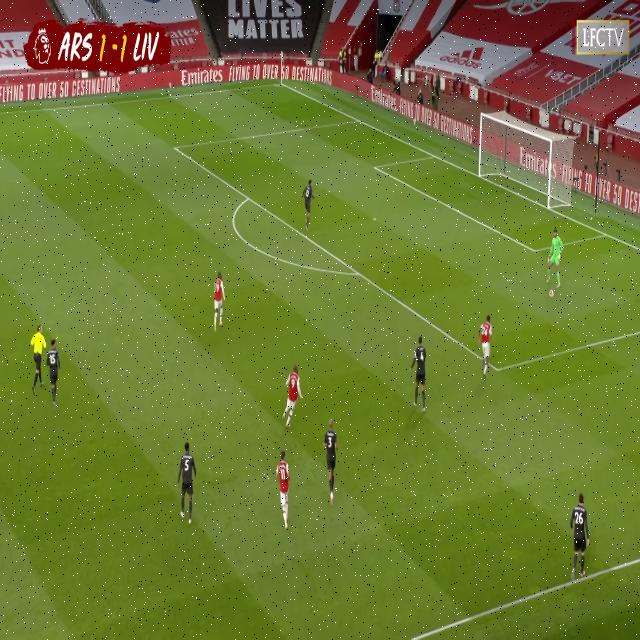Ball: (549, 290, 554, 298)
GoalKeeper: (545, 230, 565, 294)
TEAM 1: (277, 451, 292, 534), (285, 367, 304, 431), (479, 315, 494, 380), (214, 270, 227, 330)
TEAM 2: (568, 495, 590, 582), (177, 443, 197, 525), (409, 338, 428, 410), (323, 419, 337, 505), (46, 343, 60, 410), (302, 180, 315, 232)
